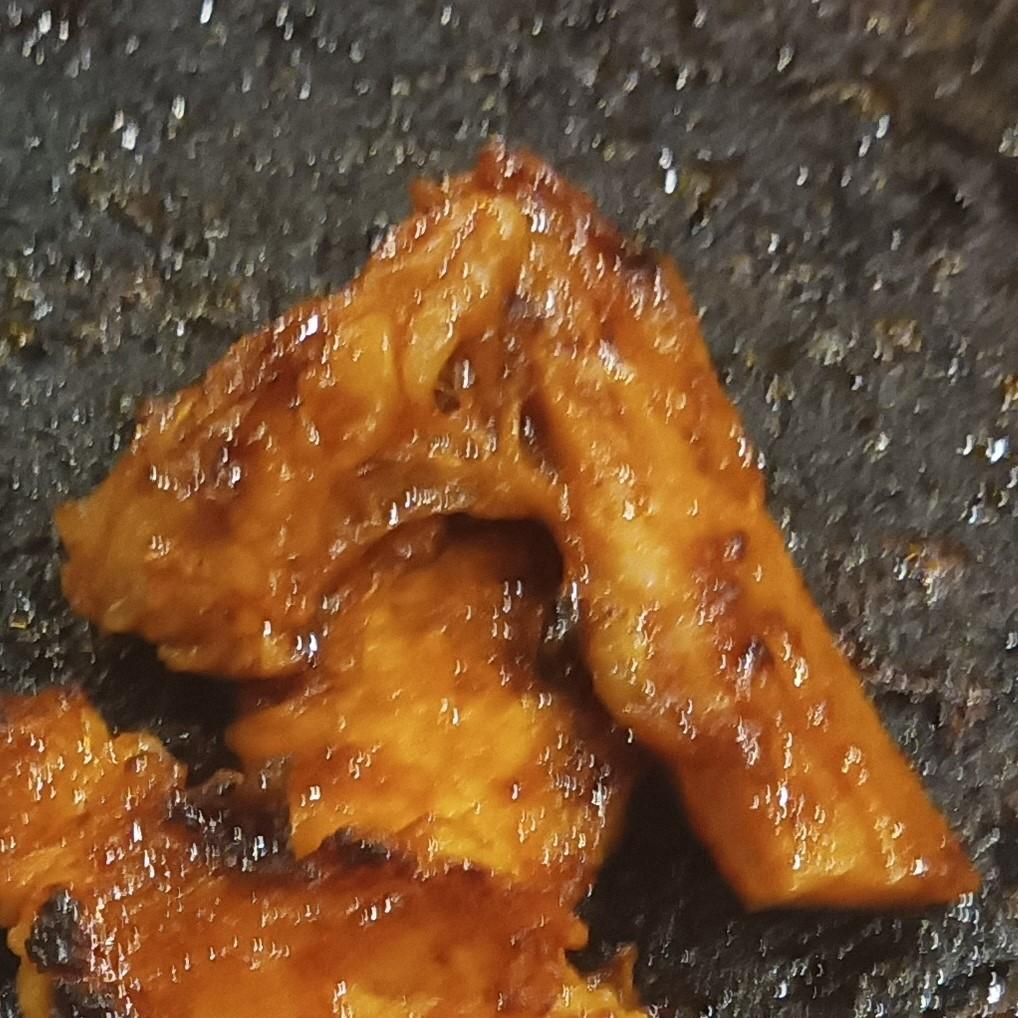Overcooked: (0, 691, 586, 1017)
Well-Cooked: (56, 144, 978, 907)
